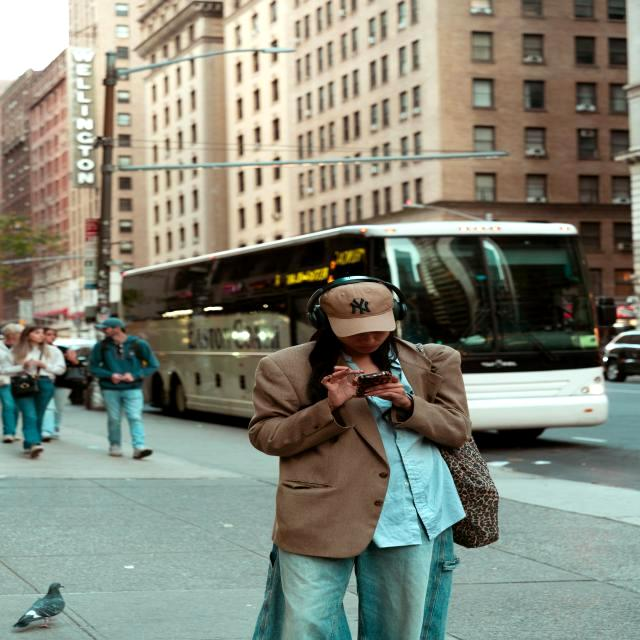no_hard_hat: (306, 276, 407, 330), (316, 282, 396, 338), (95, 318, 125, 329)
no_head_wear: (14, 325, 45, 360)
person: (249, 276, 498, 640), (89, 318, 159, 459), (0, 326, 66, 459)
